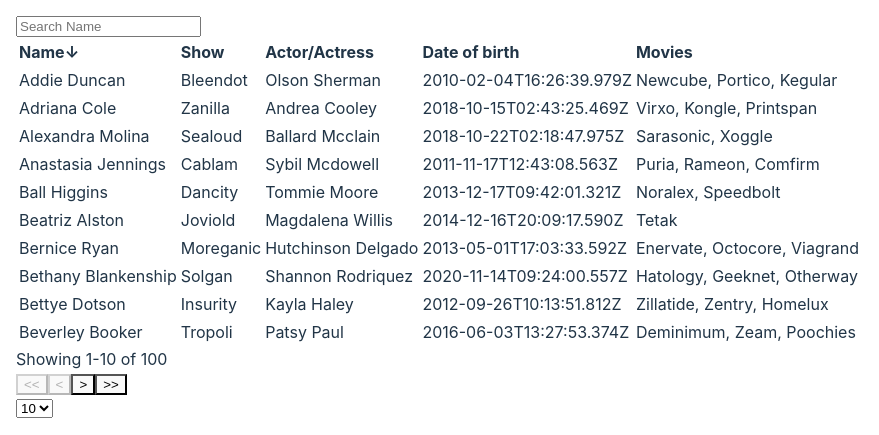
Scenario: People › Pagination › should go the next page
Expected: the text "Showing 1-10 of 100" is shown, 16,349 -> 168,369
Click the button named "Next" at (83, 384), box 71,374 -> 95,395
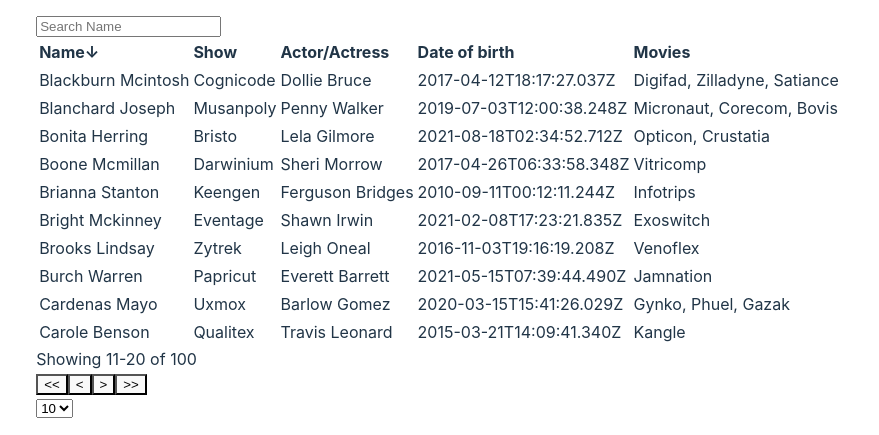
Now the text "Showing 11-20 of 100" is shown, box 36,349 -> 197,369
